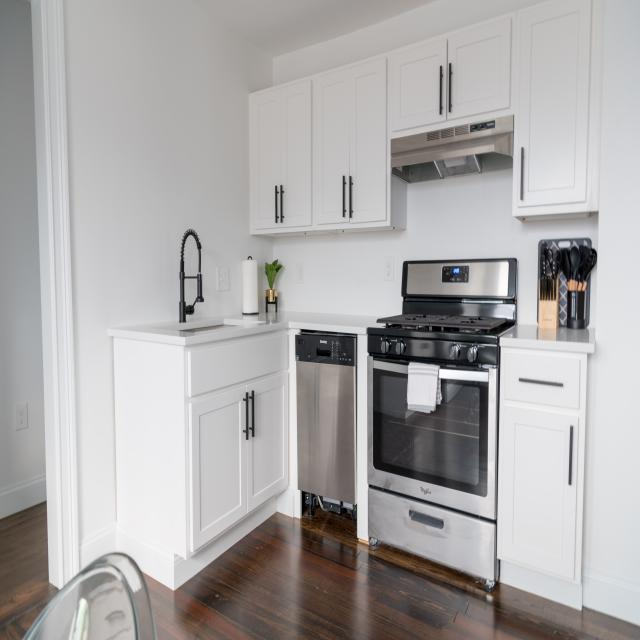Appliance_Dishwasher: (295, 330, 365, 514)
Appliance_Oven: (366, 258, 517, 585)
Appliance_Sink: (171, 229, 241, 333)
Cabinet_Flat: (187, 332, 287, 397), (502, 348, 583, 416)
Cabinet_Shaker: (248, 0, 601, 237), (192, 371, 289, 551), (497, 398, 586, 590)
Countertop_Solid_Surface: (108, 313, 379, 346), (501, 324, 594, 351)
